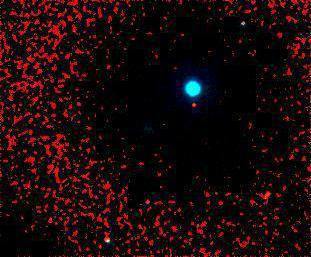star: (179, 89, 209, 119)
